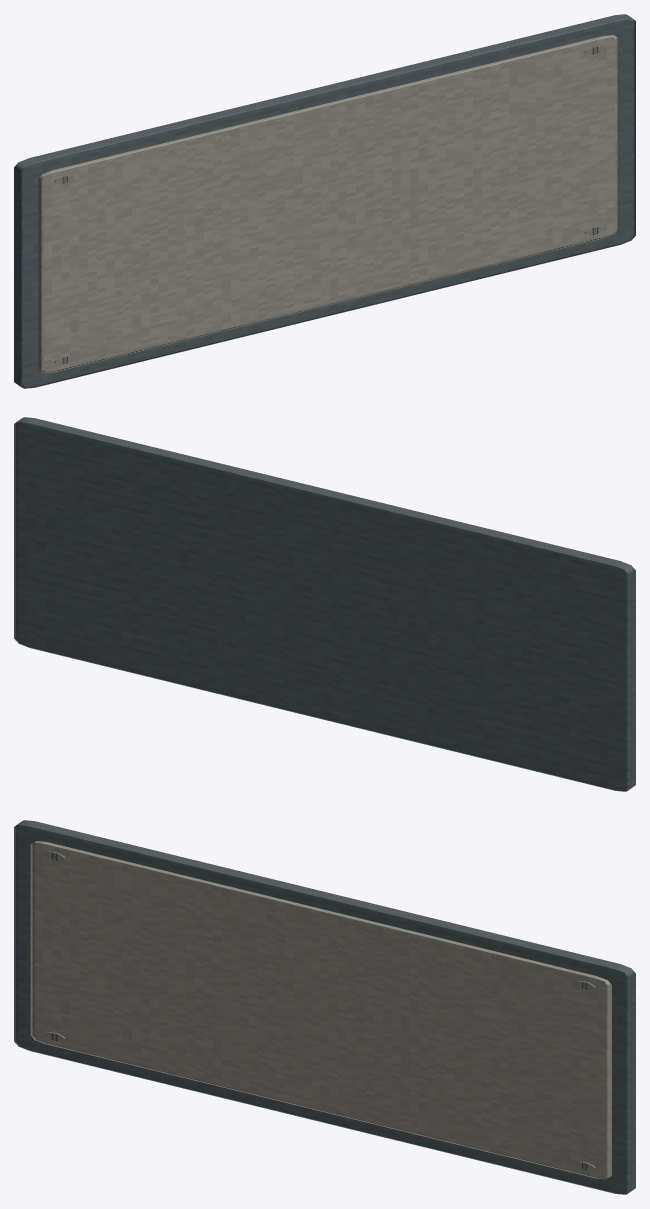
File: bumper-panel.glb
The picture shows the model from 3 angles, top to bottom: view 1: azimuth 30°, elevation 25°; view 2: azimuth 150°, elevation 25°; view 3: azimuth 330°, elevation 25°; orthographic projection.
Visible parts, largest first — view 1: face, back; view 2: back; view 3: face, back.
Part boxes in pixels (x1,y1,x2,y2): face: (38,35,619,373); back: (14,14,635,388); back: (14,417,635,791); face: (30,841,611,1179); back: (14,820,635,1194).
Bounding box in the file's own units: 1.2 × 0.42 × 0.028.
3 materials, 3 textured.
